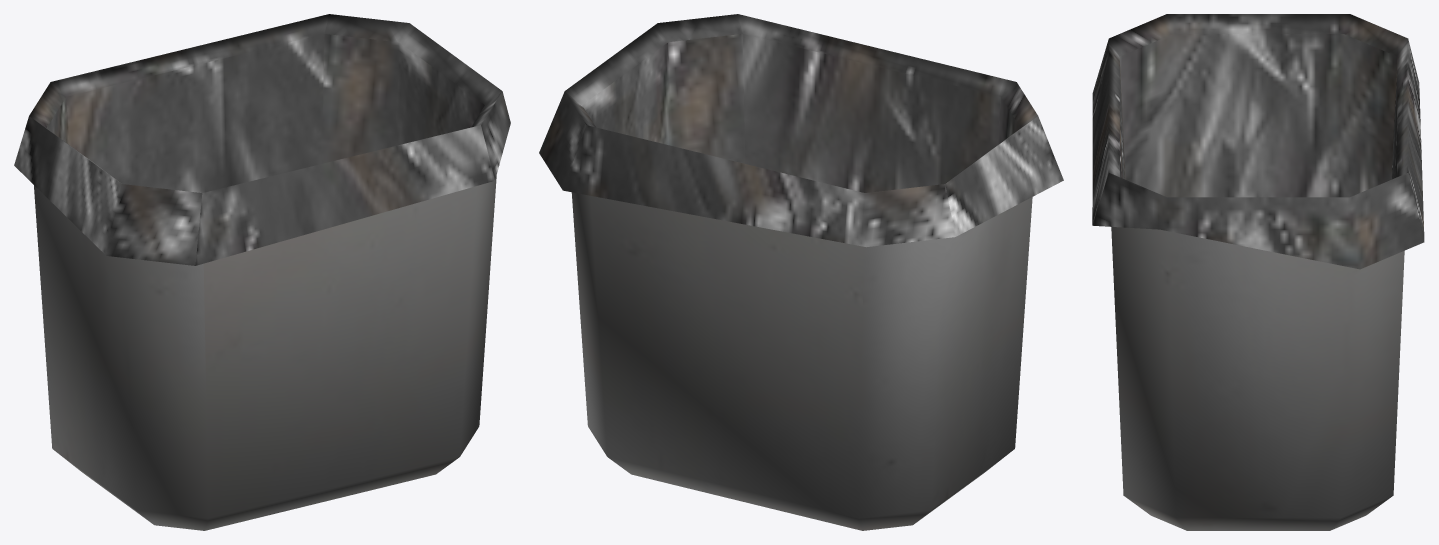
The model's file is bin.glb.
3 renders of one model, left to right at view 1: azimuth 30°, elevation 25°; view 2: azimuth 150°, elevation 25°; view 3: azimuth 270°, elevation 25°, orthographic.
Visible parts, largest first — view 1: trash_can.-col; view 2: trash_can.-col; view 3: trash_can.-col.
Boxes of the visible parts, left/top/right/bottom form: trash_can.-col: left=14, top=14, right=510, bottom=530; trash_can.-col: left=539, top=14, right=1063, bottom=530; trash_can.-col: left=1092, top=14, right=1424, bottom=530.
Size of the model in its own units: 0.5721 by 0.4655 by 0.3953.
Materials: 1 (1 with a texture image).
